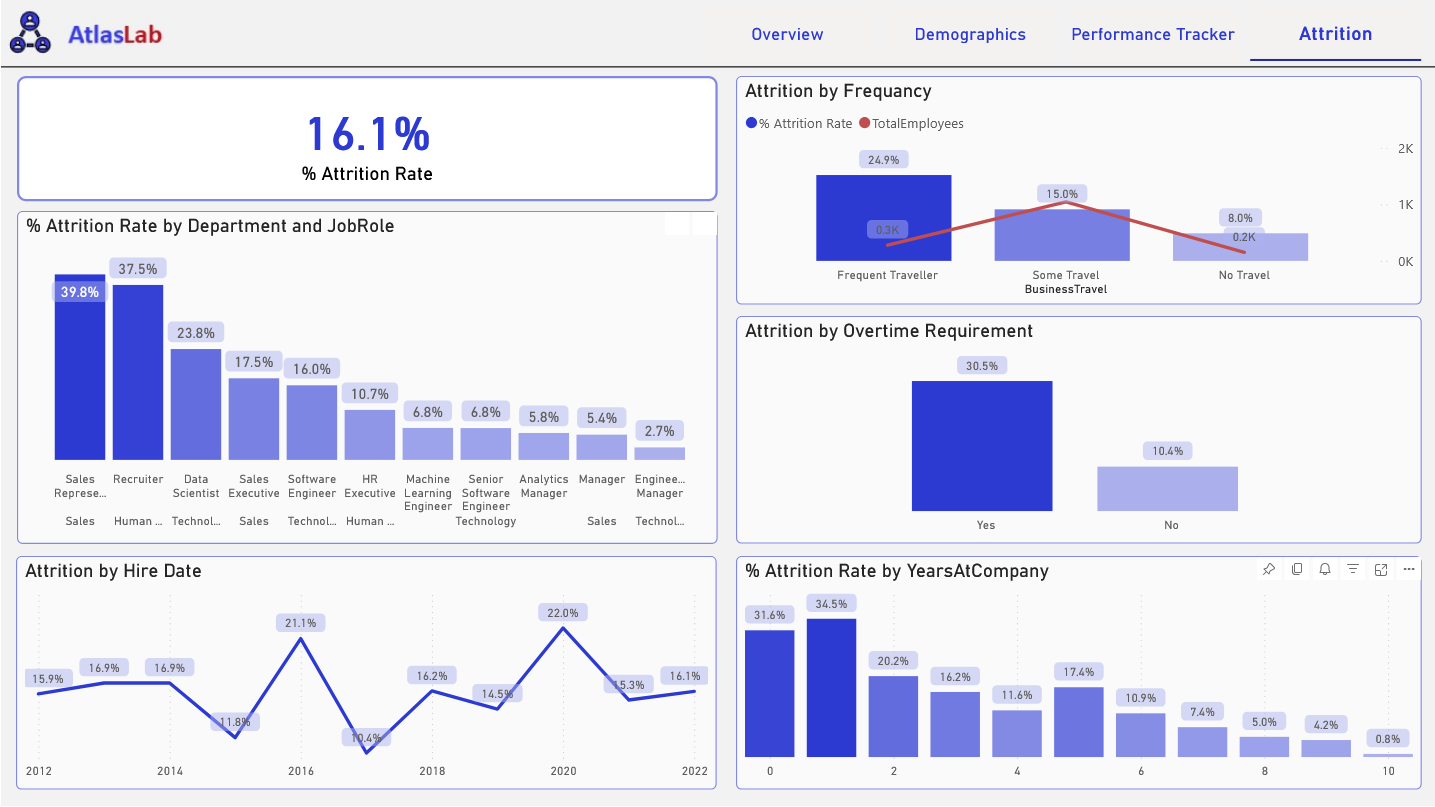

The page's visual inventory and layout, read from the dashboard file:
{"tool":"powerbi","page":{"name":"Attrition","canvas":[1280,720],"ordinal":3},"visuals":[{"type":"card","fields":{"Values":["_Measures.% Attrition Rate"]},"box":[15.1,67.4,625.1,111.7],"z":0},{"type":"columnChart","fields":{"Y":["_Measures.% Attrition Rate"],"Category":["DimEmployee.Department","DimEmployee.JobRole"]},"box":[15.1,188,625.1,297],"z":1000},{"type":"lineChart","title":"Attrition by Hire Date","fields":{"Y":["_Measures.% Attrition Rate Date"],"Category":["DimDate.Date.Variation.Date Hierarchy.Year","DimDate.Date.Variation.Date Hierarchy.Quarter","DimDate.Date.Variation.Date Hierarchy.Month","DimDate.Date.Variation.Date Hierarchy.Day"]},"box":[14.2,495.7,625.1,208.4],"z":2000},{"type":"lineStackedColumnComboChart","title":"Attrition by Frequancy","fields":{"Category":["DimEmployee.BusinessTravel"],"Y":["_Measures.% Attrition Rate"],"Y2":["_Measures.TotalEmployees"]},"box":[657,67.4,611.8,203.9],"z":3000},{"type":"columnChart","title":"Attrition by Overtime Requirement ","fields":{"Y":["_Measures.% Attrition Rate"],"Category":["DimEmployee.OverTime"]},"box":[657,282,611.8,203.1],"z":4000},{"type":"columnChart","fields":{"Y":["_Measures.% Attrition Rate"],"Category":["DimEmployee.YearsAtCompany"]},"box":[657,495.7,611.8,208.4],"z":5000},{"type":"pageNavigator","box":[625.9,4,643,50.3],"z":6000}]}

Visuals, with their boxes in screenshot pixels (x1, y1, x2, y2), scaled from the page's 1280x720 canvas onto the 1435x807 screenshot:
card - _Measures.% Attrition Rate: 17, 76, 718, 201
columnChart - _Measures.% Attrition Rate x DimEmployee.Department: 17, 211, 718, 544
"Attrition by Hire Date" lineChart: 16, 556, 717, 789
"Attrition by Frequancy" lineStackedColumnComboChart: 737, 76, 1422, 304
"Attrition by Overtime Requirement " columnChart: 737, 316, 1422, 544
columnChart - _Measures.% Attrition Rate x DimEmployee.YearsAtCompany: 737, 556, 1422, 789
pageNavigator: 702, 4, 1423, 61
